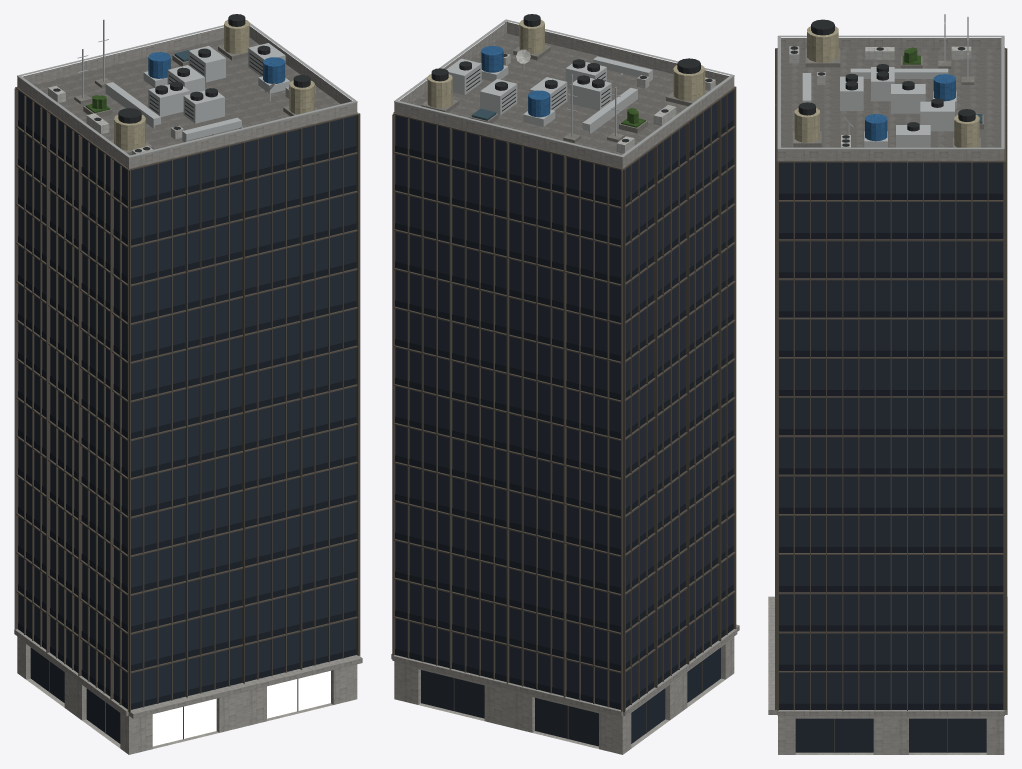
File: seoul_office_00.glb
3 views of the same model, side by side, from view 1: azimuth 30°, elevation 25°; view 2: azimuth 150°, elevation 25°; view 3: azimuth 270°, elevation 25° (orthographic).
Parts seen in each view (by area): view 1: seoul_office_00_LOD0; view 2: seoul_office_00_LOD0; view 3: seoul_office_00_LOD0.
Part boxes in pixels (x1,y1,x2,y2): seoul_office_00_LOD0: [14, 14, 362, 754]; seoul_office_00_LOD0: [391, 14, 739, 754]; seoul_office_00_LOD0: [768, 14, 1007, 754].
Size of what is drawn, in the model's own units: 25.3 by 67.18 by 22.1.
5 materials, 2 textured.
